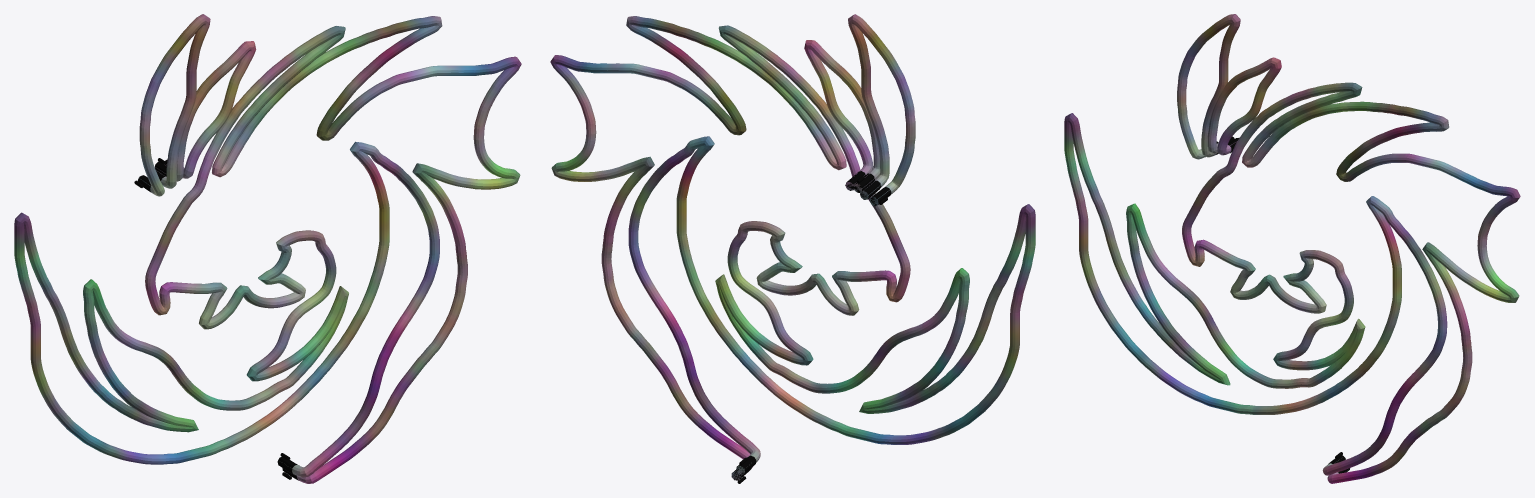
File: neonsign_05.fbx
The picture shows the model from 3 angles, left to right: view 1: azimuth 30°, elevation 25°; view 2: azimuth 150°, elevation 25°; view 3: azimuth 330°, elevation 25°; orthographic projection. The views are drawn at different scales.
Visible parts, largest first — view 1: neonsign_05; view 2: neonsign_05; view 3: neonsign_05.
Part boxes in pixels (x1,y1,x2,y2): neonsign_05: (14, 14, 521, 483); neonsign_05: (550, 14, 1035, 483); neonsign_05: (1064, 14, 1520, 483).
Size of the model in its own units: 1.55 by 1.47 by 0.1234.
